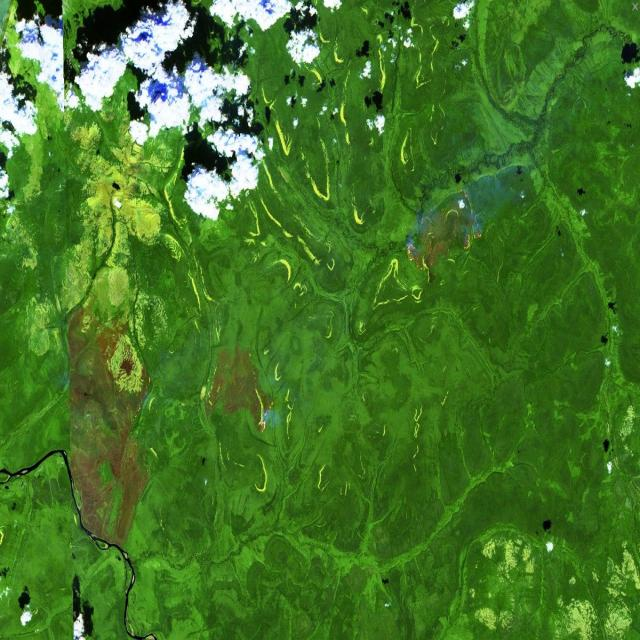fire: (454, 222, 487, 259), (252, 393, 278, 436), (401, 234, 424, 274)
